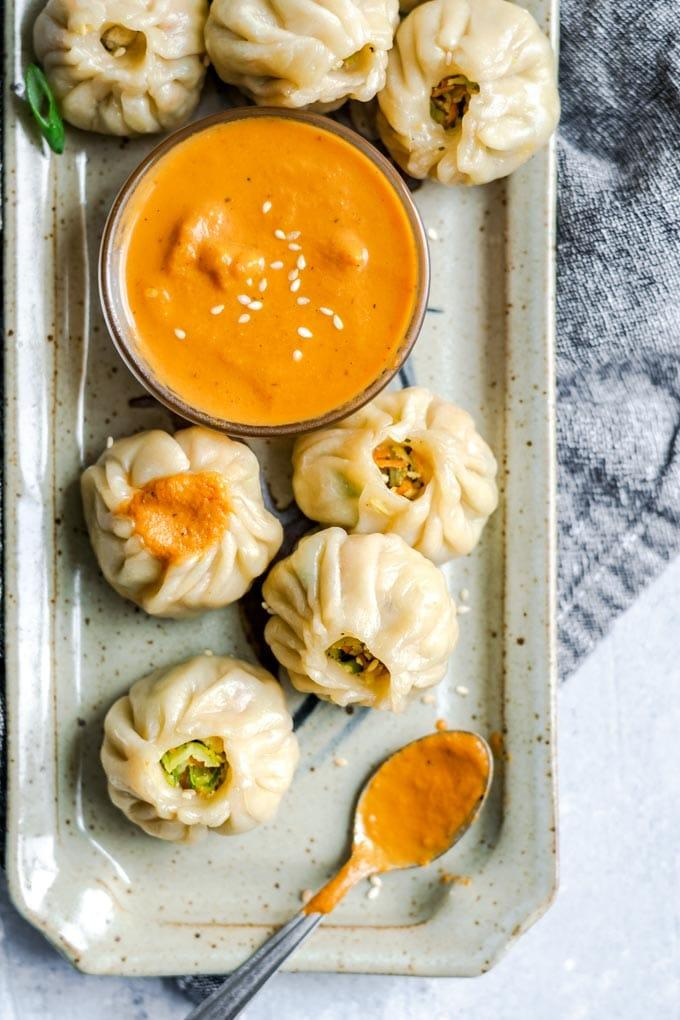momos: (82, 426, 283, 618), (102, 655, 299, 844), (295, 386, 498, 564), (263, 526, 456, 712), (379, 0, 560, 185), (34, 0, 209, 135), (205, 0, 400, 111)
